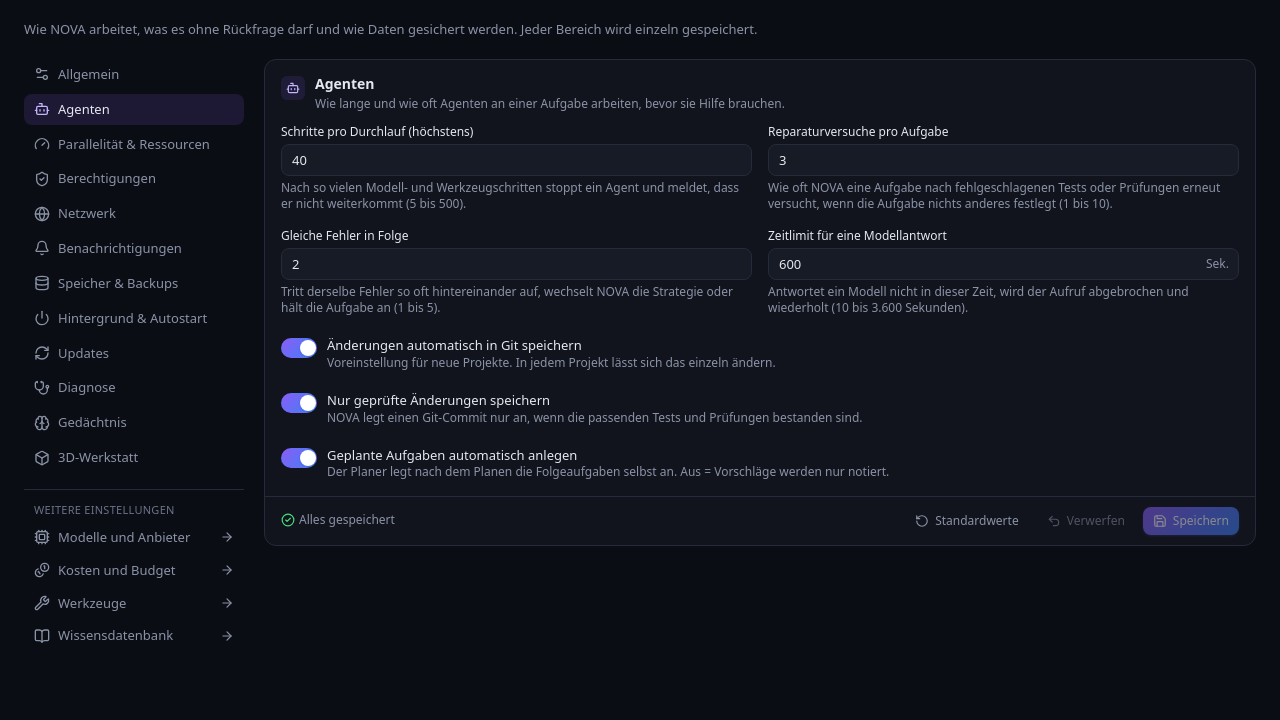
it: SettingsPage – navigation and forms › saves a changed section as a patch and marks unsaved changes
Expected: the button "Speichern" is shown, [1143,507,1239,535]
Replace the text in the field labelled "Schritte pro Durchlauf (höchstens)" with "60" at (516, 160), box [281,144,752,176]
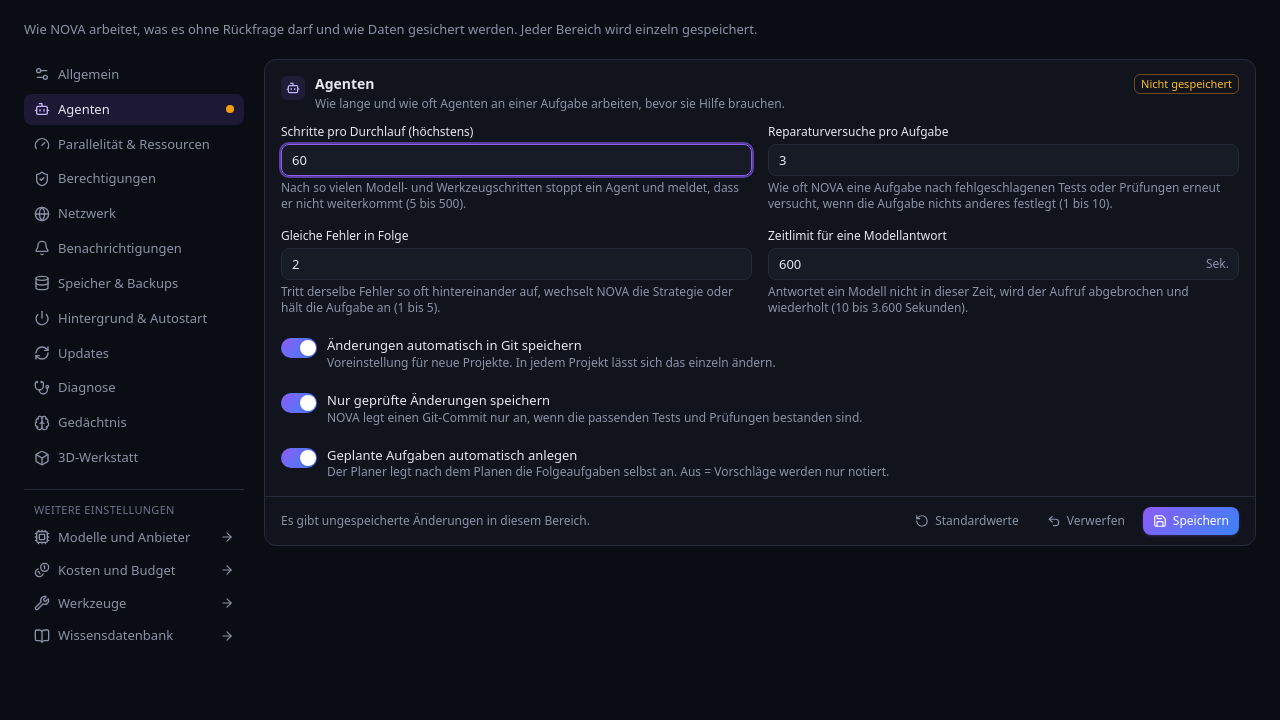
Click the switch named "Geplante Aufgaben automatisch anlegen" next to "Geplante Aufgaben automatisch anlegen".
click(299, 458)  # box [281,448,317,468]
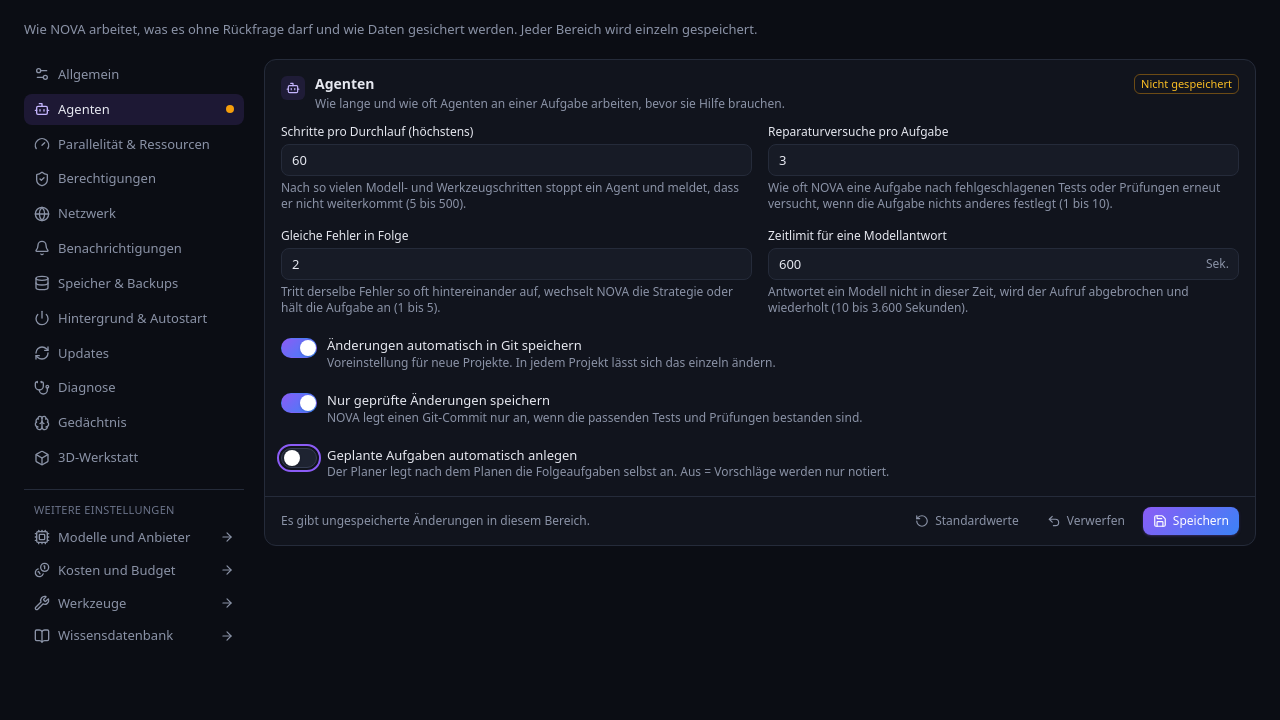
Expected: the text "Nicht gespeichert" is shown, [1141,76,1232,92]
Click the button "Speichern".
click(1191, 521)  # box [1143,507,1239,535]
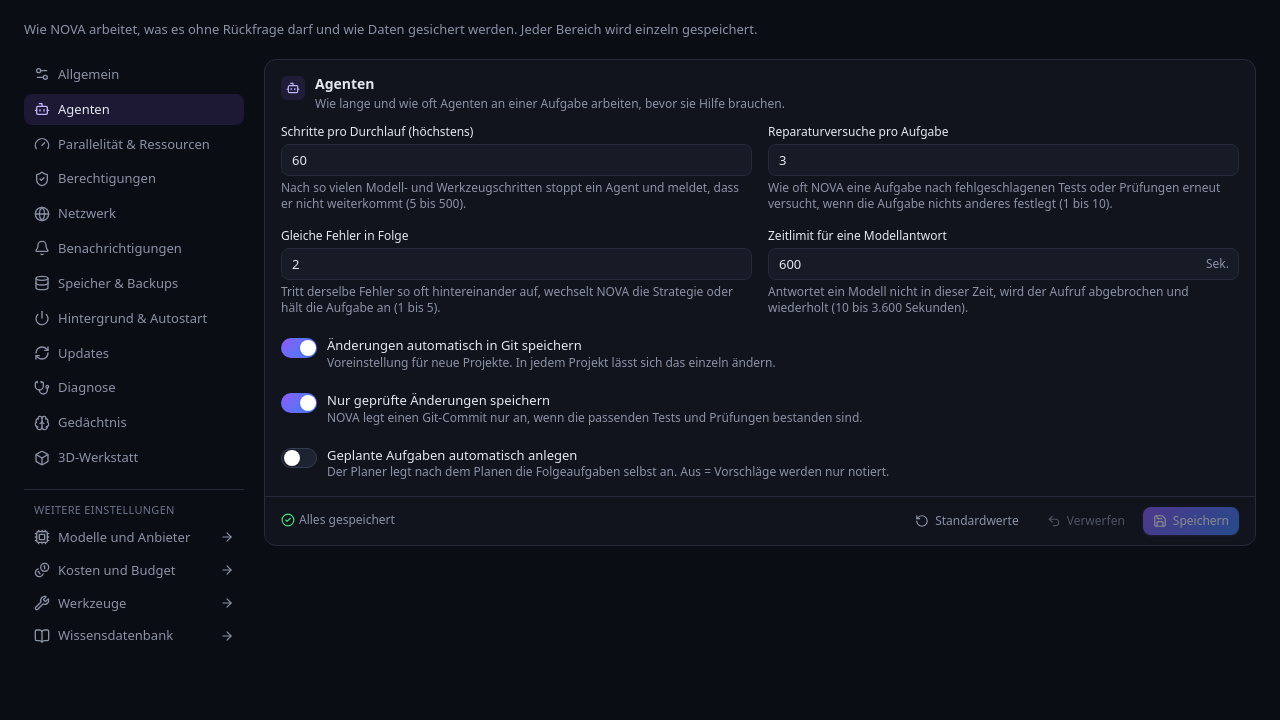
Expected: the text "Nicht gespeichert" is gone
